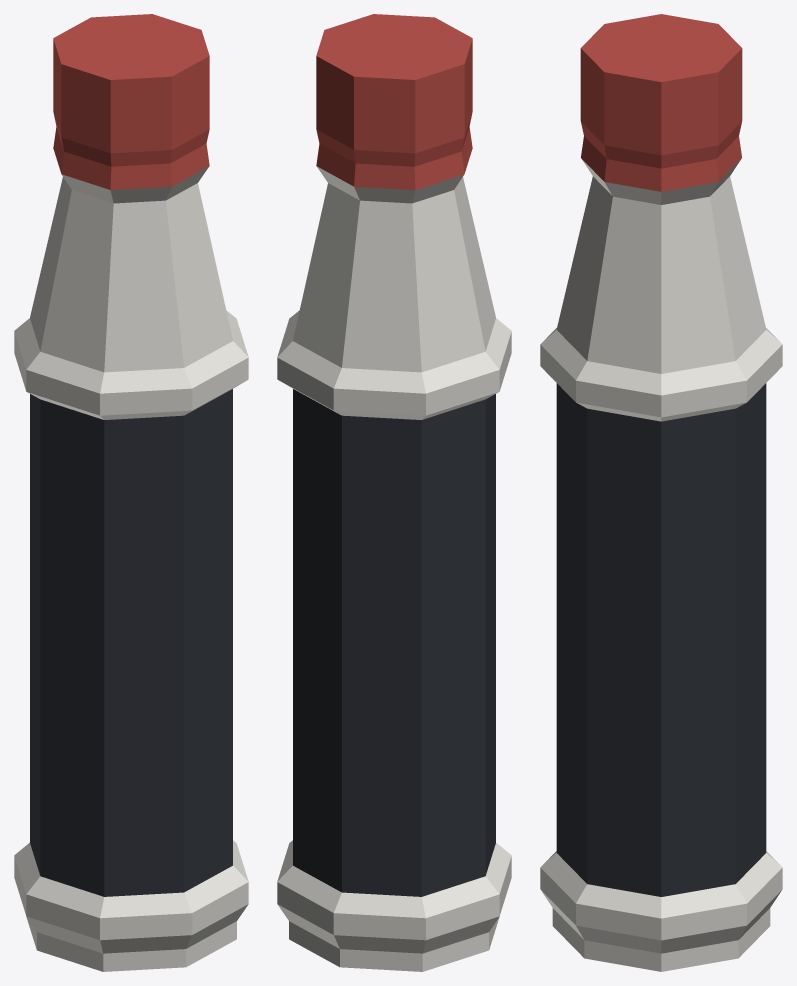
The model's file is sauce_bottle.glb.
3 renders of one model, left to right at view 1: azimuth 30°, elevation 25°; view 2: azimuth 150°, elevation 25°; view 3: azimuth 270°, elevation 25°, orthographic.
Parts seen in each view (by area): view 1: sauce_bottle; view 2: sauce_bottle; view 3: sauce_bottle.
Boxes of the visible parts, left/top/right/bottom form: sauce_bottle: left=14, top=14, right=248, bottom=971; sauce_bottle: left=277, top=14, right=511, bottom=971; sauce_bottle: left=540, top=14, right=782, bottom=971.
Size of the model in its own units: 0.06 by 0.24 by 0.06.
